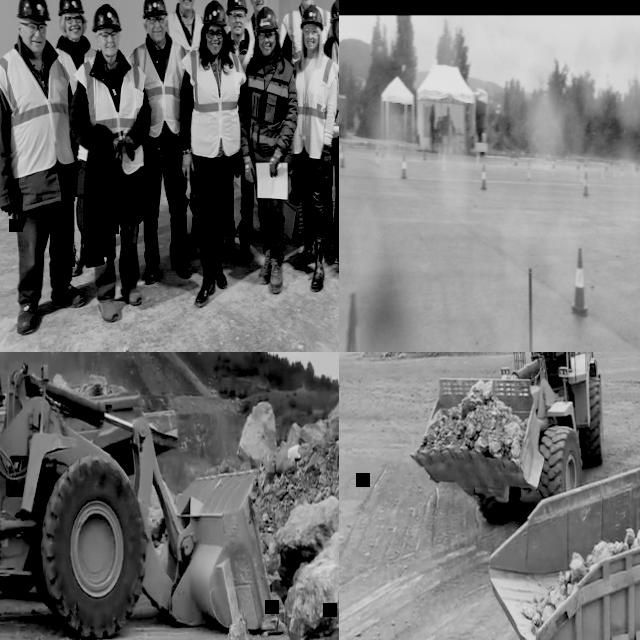Hardhat: (91, 3, 121, 33), (15, 0, 51, 22), (201, 0, 227, 25), (254, 6, 278, 32), (299, 5, 323, 31), (142, 0, 168, 18), (57, 0, 84, 16), (225, 0, 247, 15), (328, 0, 339, 21)
NO-Mask: (24, 32, 46, 52), (101, 40, 118, 56), (147, 27, 166, 41), (206, 38, 222, 54), (66, 25, 83, 39), (259, 41, 275, 55), (304, 37, 318, 51), (230, 21, 244, 35), (178, 0, 194, 11), (252, 0, 266, 11), (298, 0, 314, 5), (335, 27, 339, 40)
Person: (0, 0, 88, 335), (66, 2, 152, 325), (179, 0, 247, 307), (123, 0, 193, 282), (237, 8, 300, 295), (289, 3, 339, 293), (278, 0, 334, 233), (54, 0, 96, 277), (218, 0, 259, 264), (164, 0, 206, 239), (243, 0, 270, 236), (322, 0, 339, 272)
Safety Cone: (339, 292, 366, 352), (570, 247, 589, 317), (479, 164, 487, 190), (339, 146, 346, 168), (401, 154, 407, 178), (583, 172, 589, 196), (374, 143, 380, 165), (599, 163, 605, 182), (526, 160, 531, 180), (441, 154, 446, 172), (630, 160, 635, 176), (579, 165, 583, 183), (619, 163, 624, 177), (612, 162, 616, 178), (380, 144, 384, 158), (386, 145, 390, 159), (423, 147, 427, 161), (437, 149, 441, 163), (475, 153, 479, 167), (583, 159, 587, 173), (635, 159, 639, 172), (507, 156, 511, 168), (513, 155, 517, 167), (551, 157, 555, 169), (542, 157, 545, 171), (363, 139, 367, 149), (576, 157, 579, 169), (339, 142, 341, 158), (535, 150, 539, 158), (502, 149, 505, 158), (521, 150, 524, 158), (565, 153, 568, 161)
Safety Vest: (0, 45, 74, 179), (73, 51, 146, 173), (180, 46, 247, 158), (125, 37, 191, 139), (245, 56, 295, 154), (293, 54, 339, 160), (281, 4, 331, 60), (54, 45, 99, 95), (164, 12, 203, 52), (246, 15, 288, 50), (226, 29, 254, 70)
machinery: (0, 352, 285, 640), (481, 404, 640, 640), (408, 352, 605, 538)
